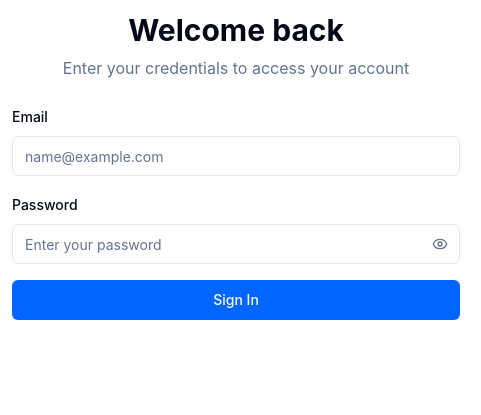
Scenario: 2.1-COMPONENT: LoginForm Component › Error Handling › [P1] 2.1-COMPONENT-041: should display generic error for other failures
// Login fails due to network
Type "test@test.com" into the field labelled "Email". click: (236, 156)
box: [12, 136, 460, 176]
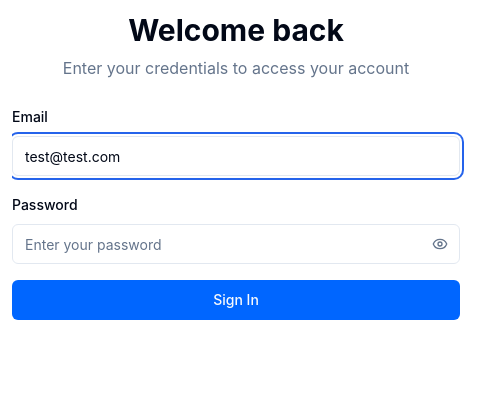
Type "Password123!" into the password field labelled "Password". click: (236, 244)
box: [12, 224, 460, 264]
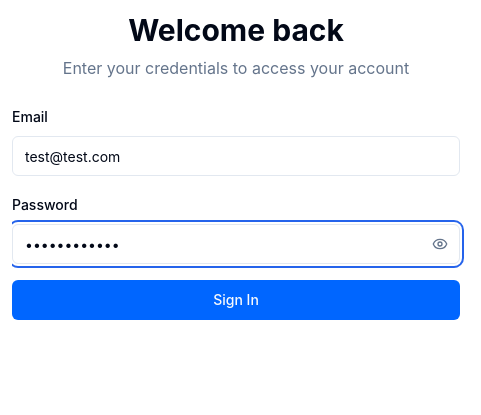
Click the button "Sign In". click: (236, 300)
box: [12, 280, 460, 320]
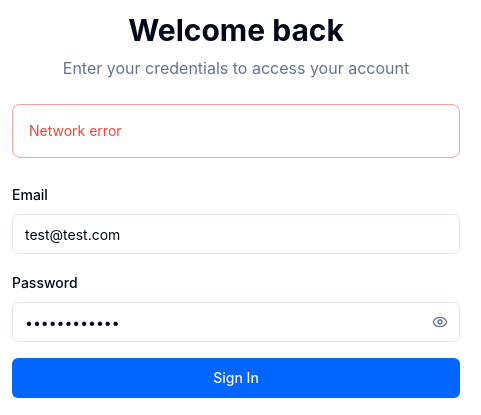
expect the text "Network error" is shown: met, box [29, 122, 122, 139]
